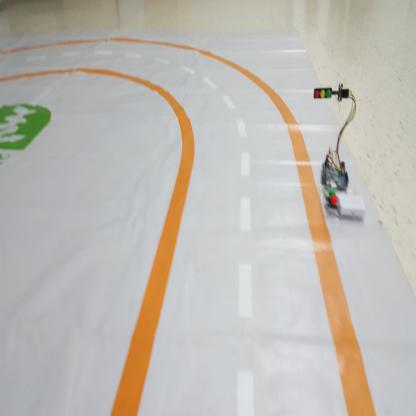traffic-light: (313, 86, 332, 101)
